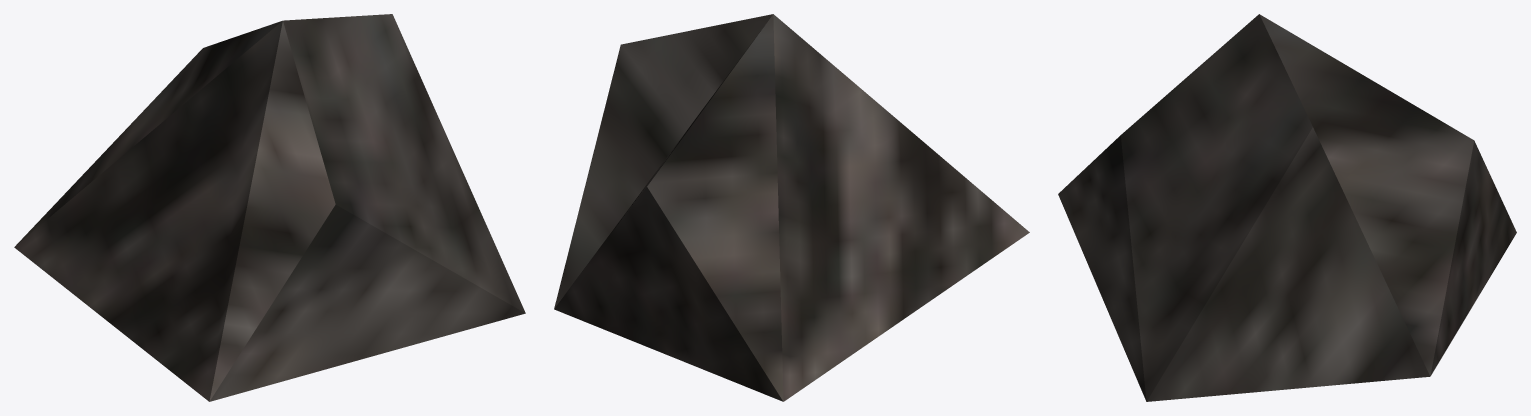
File: asteroid.glb
3 views of the same model, side by side, from view 1: azimuth 30°, elevation 25°; view 2: azimuth 150°, elevation 25°; view 3: azimuth 270°, elevation 25° (orthographic). The views are drawn at different scales.
Visible parts, largest first — view 1: rock; view 2: rock; view 3: rock.
Boxes of the visible parts, x1,y1,x2,y2 form: rock: [14, 14, 525, 401]; rock: [554, 14, 1029, 401]; rock: [1058, 14, 1516, 401].
Bounding box in the file's own units: 12.11 × 9.98 × 13.35.
Materials: 1 (1 with a texture image).
